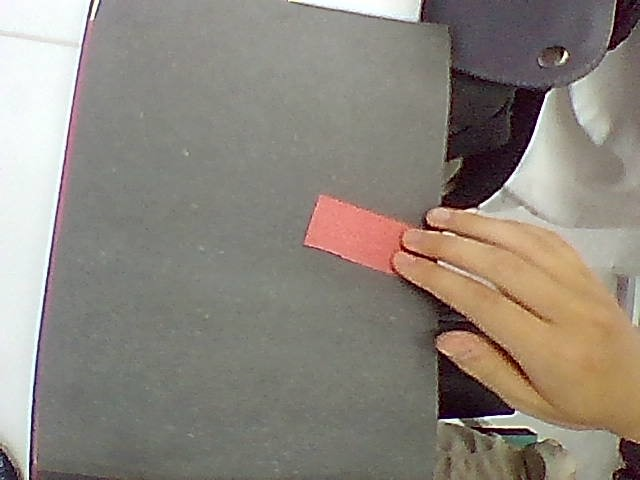card: (304, 195, 410, 274)
